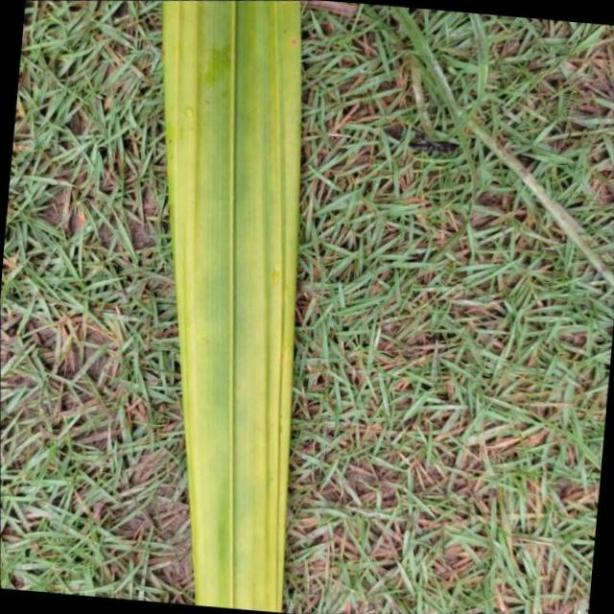nitrogen: (156, 0, 304, 614)
